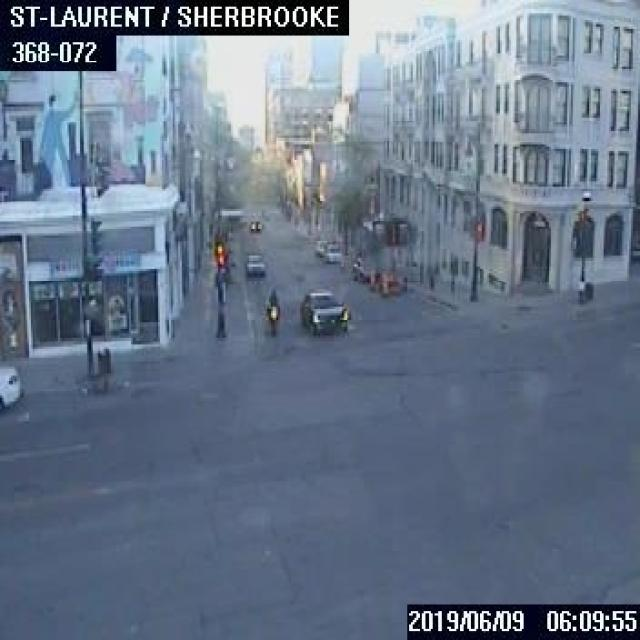vehicle: (299, 289, 348, 333), (0, 362, 22, 409), (262, 287, 280, 336), (351, 256, 377, 282), (243, 251, 264, 275), (322, 243, 341, 262), (313, 238, 329, 255), (247, 217, 261, 231)
